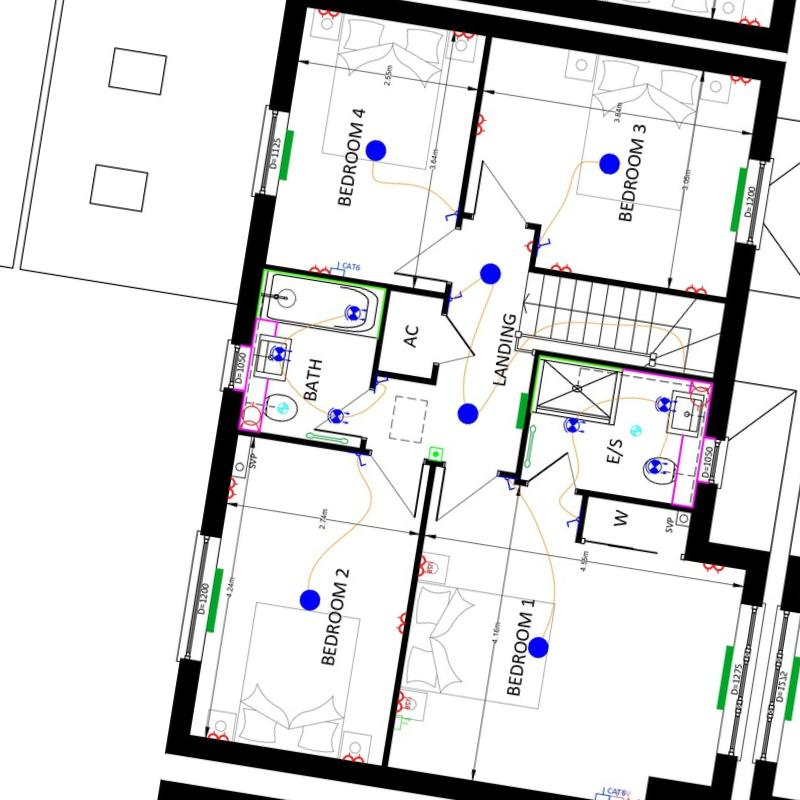Cat 6 Data Socket: (595, 782, 625, 800), (330, 261, 360, 277)
Ceiling Mounted Continuous Extract FanWith Boost Mode Activated By Light Switch: (277, 402, 289, 414), (630, 425, 641, 436)
Co-Ax TV Socket: (611, 789, 631, 800)
Double Socket: (343, 751, 364, 764), (551, 261, 572, 273), (318, 8, 339, 20), (703, 562, 724, 574), (731, 75, 751, 87), (395, 613, 407, 633), (208, 730, 228, 742), (309, 264, 330, 275), (476, 114, 487, 135), (739, 16, 761, 26), (454, 30, 474, 41), (228, 478, 238, 499), (686, 284, 706, 294)
Full Height Tiling: (256, 269, 387, 337), (530, 355, 622, 417)
Light Switch: (449, 291, 463, 302), (444, 210, 458, 221), (566, 516, 579, 527), (538, 238, 552, 248), (505, 477, 515, 491), (356, 454, 366, 467), (376, 377, 389, 386)
Low Energy Downlighter: (344, 303, 367, 322), (563, 416, 586, 434), (270, 345, 292, 363), (327, 407, 350, 424), (655, 396, 678, 413), (645, 458, 668, 474)
Low Energy Pendant Light: (366, 139, 387, 161), (599, 152, 620, 174), (480, 263, 501, 284), (458, 403, 479, 424), (528, 637, 549, 658), (299, 590, 320, 610)
Programmable Room Thermostat: (429, 446, 443, 461)
Radiator: (729, 167, 747, 232), (206, 568, 224, 633), (716, 646, 734, 710), (785, 657, 800, 720), (279, 130, 294, 180), (515, 393, 528, 429)
Shaver Socket: (688, 381, 711, 411), (241, 401, 261, 430)
Telephone Socket: (394, 714, 410, 730)
USB Double Socket: (395, 691, 412, 713), (417, 556, 433, 577)
